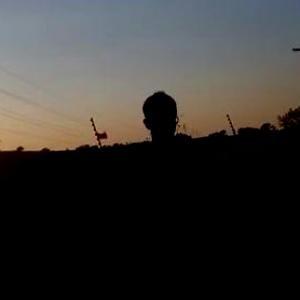follow: (122, 84, 242, 299)
